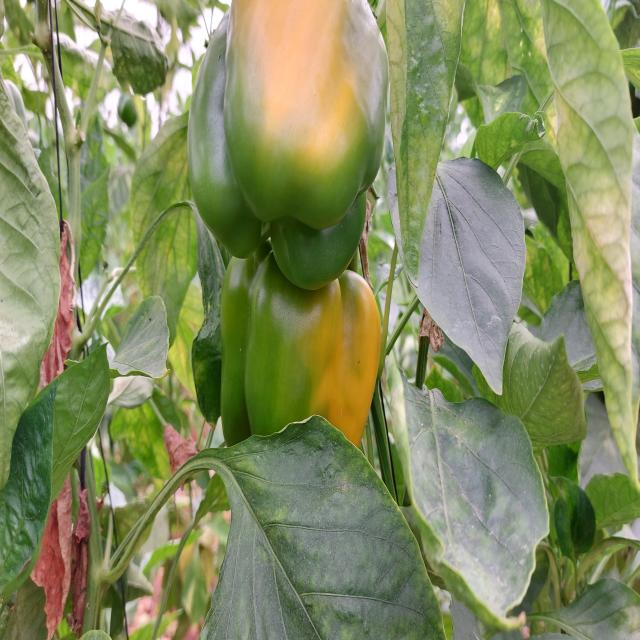GreenishYellow--Can-be-Harvested: (191, 5, 399, 287), (205, 246, 416, 487)
